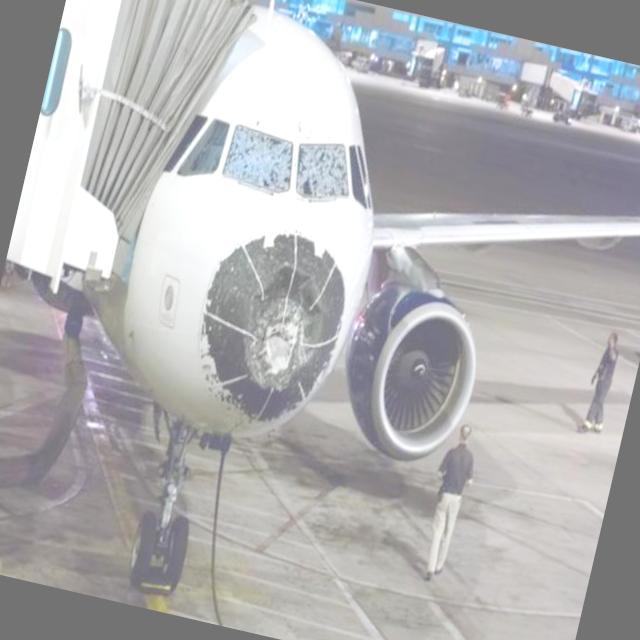crack: (224, 127, 292, 187), (299, 146, 346, 198)
dent: (192, 235, 344, 418), (243, 267, 319, 396)
